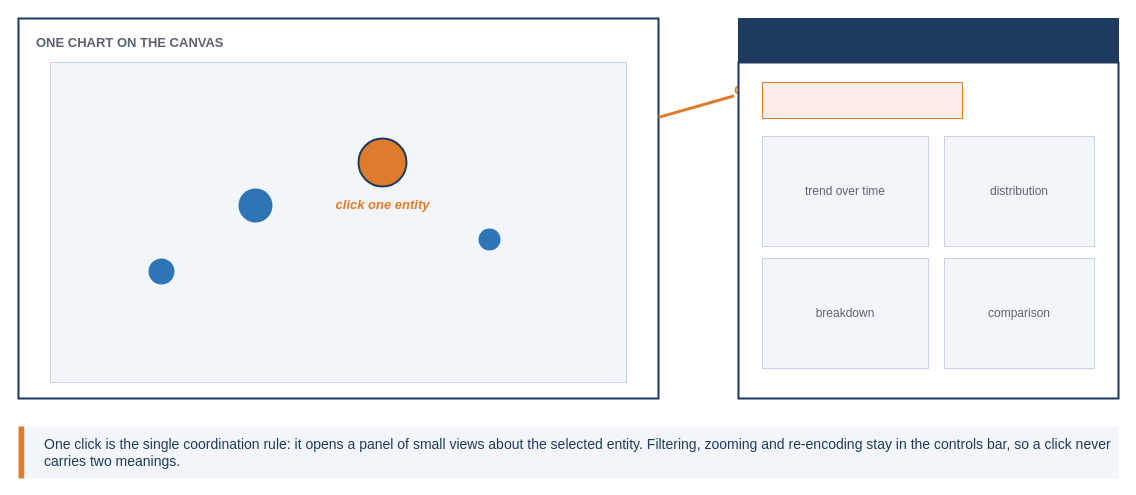
This 1136x495 diagram has some shape labels left out. Each missing label, with the centre of its shape:
"ENTITY-DETAIL PANEL" goes at (x=928, y=40).
"selected entity" goes at (x=862, y=100).
